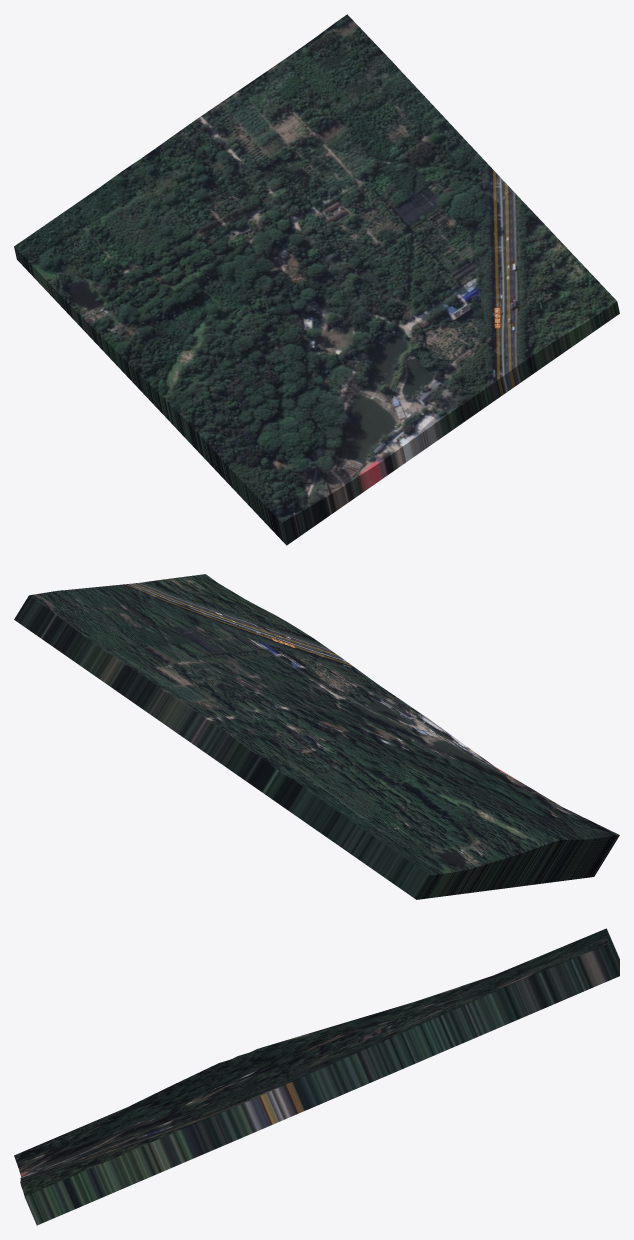
3 renders of one model, top to bottom at view 1: azimuth 30°, elevation 25°; view 2: azimuth 150°, elevation 25°; view 3: azimuth 270°, elevation 25°, orthographic. The views are drawn at different scales.
Visible parts, largest first — view 1: 0_0_31; view 2: 0_0_31; view 3: 0_0_31.
Boxes of the visible parts, x1,y1,x2,y2 form: 0_0_31: [14, 14, 619, 545]; 0_0_31: [14, 574, 619, 899]; 0_0_31: [14, 928, 619, 1225].
Bounding box in the file's own units: 604 × 456 × 563.
1 material, 1 textured.
